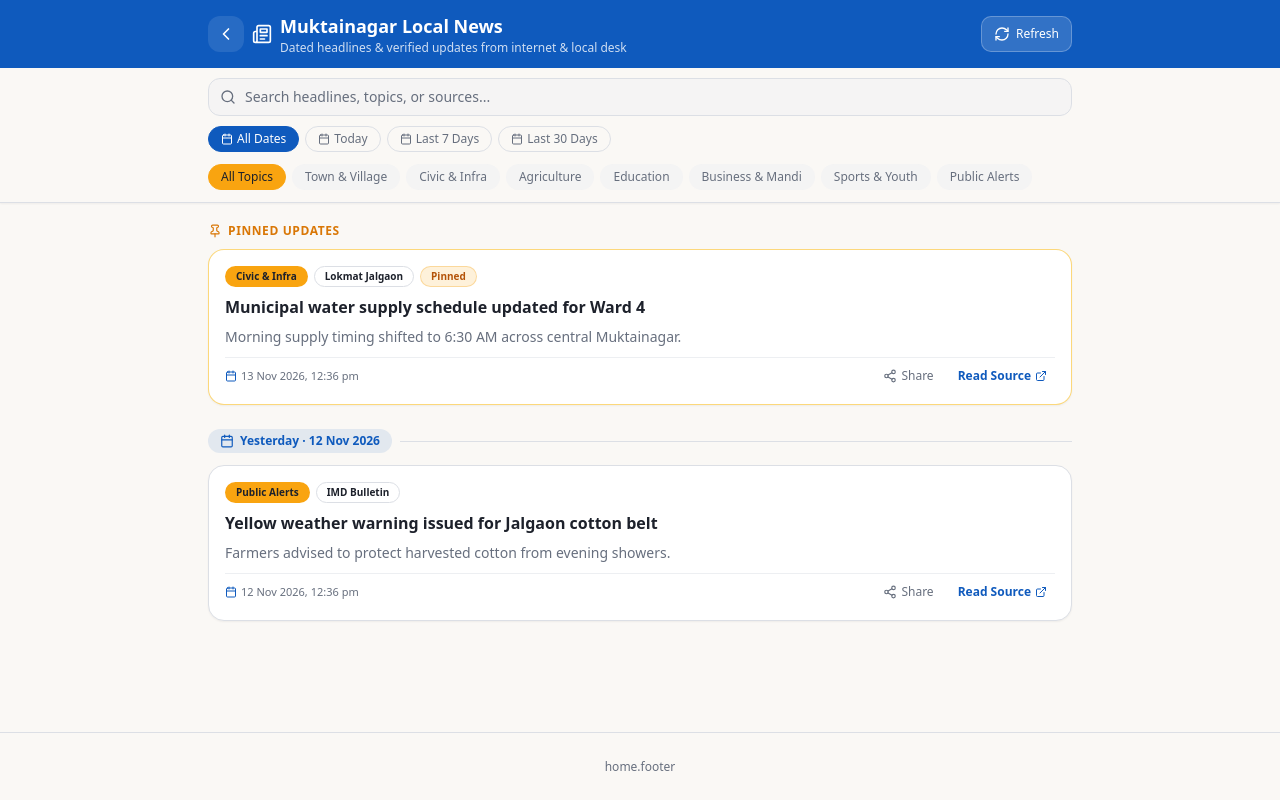
Test: Admin Nav & Local News UI › renders public LocalNews page grouped by date and filters by topic category
Later steps or results of the test are not shown.
Expected: the heading "Municipal water supply schedule updated for Ward 4" is shown, [225,296,645,318]
Expected: the heading "Yellow weather warning issued for Jalgaon cotton belt" is shown, [225,512,658,534]
Filter to Public Alerts topic
Click the button "Public Alerts" at (985, 177), box [937,164,1032,190]
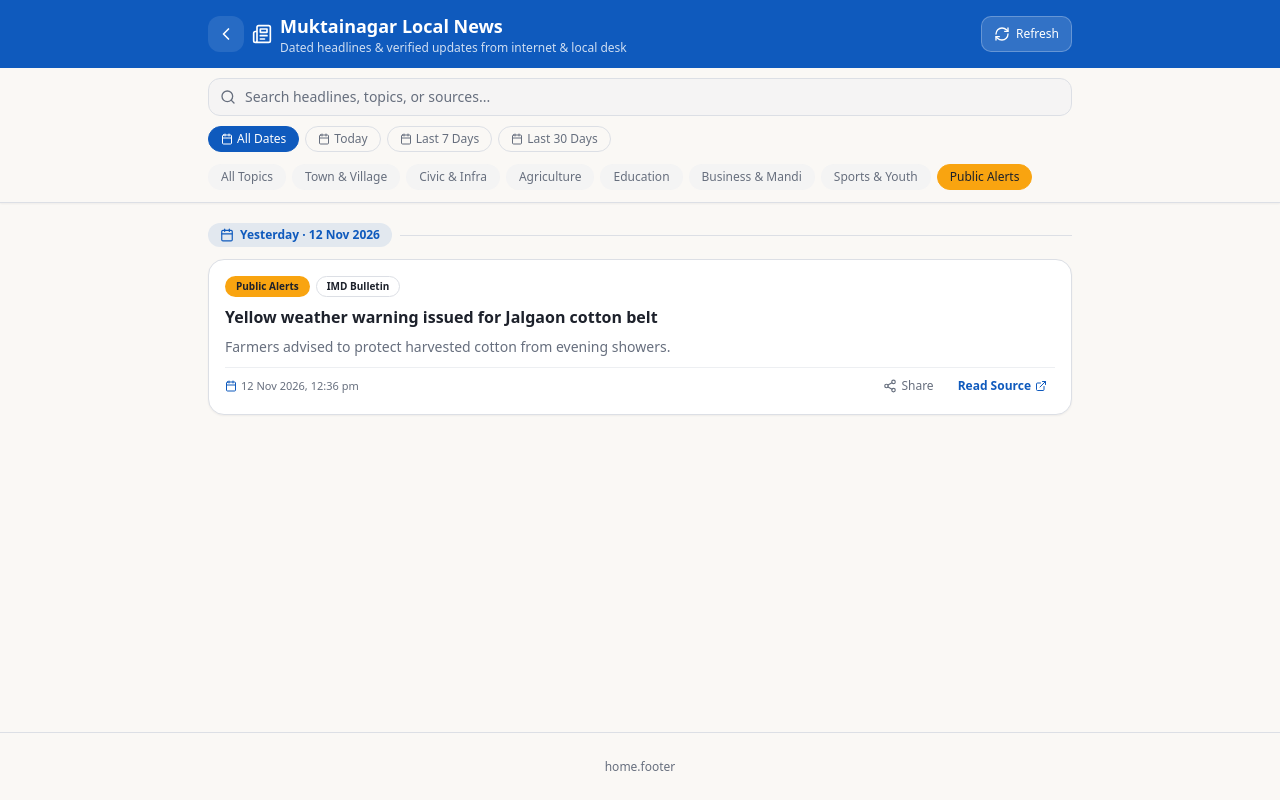
Expected: the heading "Yellow weather warning issued for Jalgaon cotton belt" is shown, [225,306,658,328]
Result: the heading "Municipal water supply schedule updated for Ward 4" is gone
